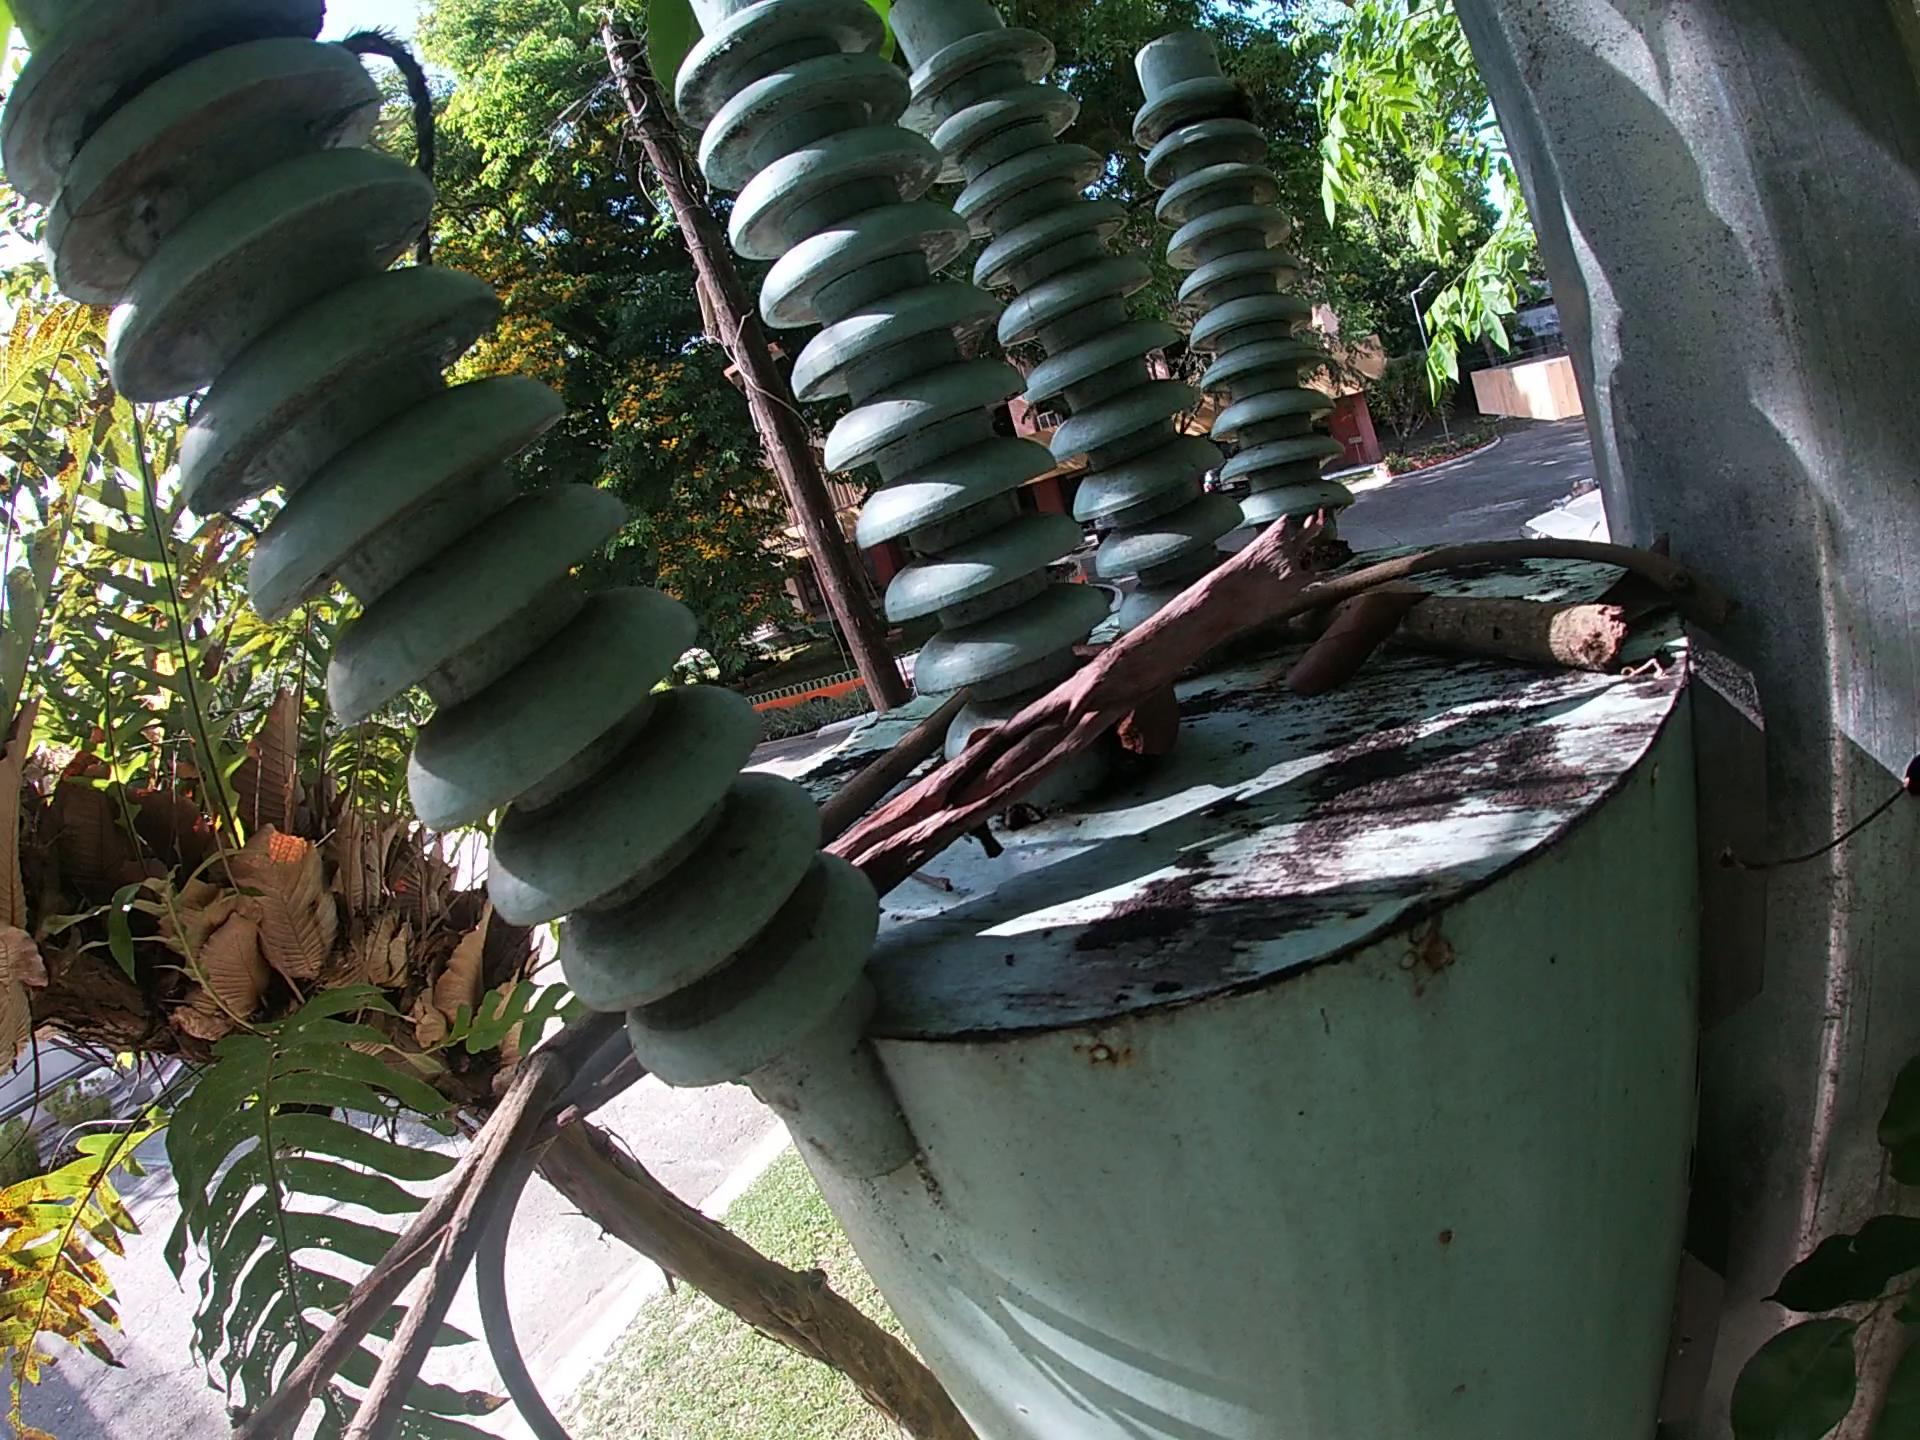leaf: (1285, 578, 1411, 711), (1598, 519, 1699, 623)
mahogany fruit: (1113, 690, 1184, 761), (1076, 641, 1102, 663)
tree branch: (830, 486, 1341, 894), (236, 1010, 615, 1435), (1270, 570, 1677, 682), (1265, 528, 1717, 626), (813, 697, 958, 827)
